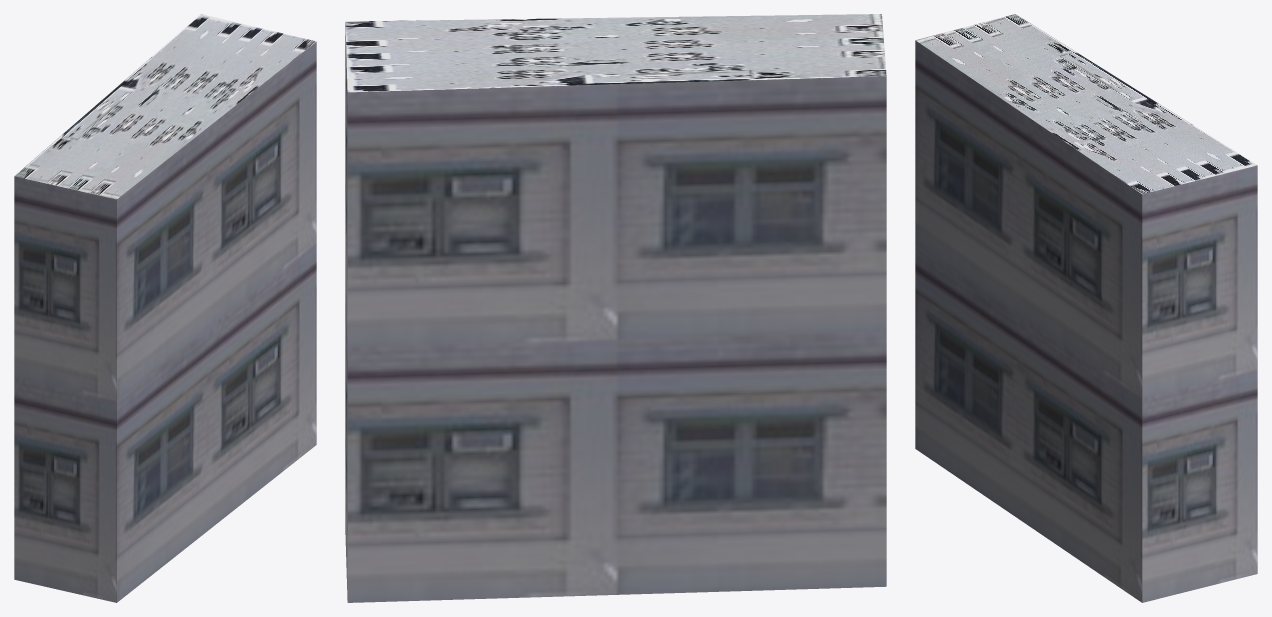
File: ResTex__1590.fbx
The picture shows the model from 3 angles, left to right: view 1: azimuth 30°, elevation 25°; view 2: azimuth 150°, elevation 25°; view 3: azimuth 270°, elevation 25°; orthographic projection. The views are drawn at different scales.
Parts seen in each view (by area): view 1: CityEngineMaterial_1_m, CityEngineMaterial_8_m; view 2: CityEngineMaterial_1_m, CityEngineMaterial_8_m; view 3: CityEngineMaterial_1_m, CityEngineMaterial_8_m.
Part boxes in pixels (x1,y1,x2,y2): CityEngineMaterial_1_m: (14,42,316,602); CityEngineMaterial_8_m: (14,14,316,199); CityEngineMaterial_1_m: (345,24,886,602); CityEngineMaterial_8_m: (345,14,886,92); CityEngineMaterial_1_m: (915,40,1257,602); CityEngineMaterial_8_m: (915,14,1257,194).
Size of the model in its own units: 5.68 by 6 by 4.56.
2 materials, 2 textured.
